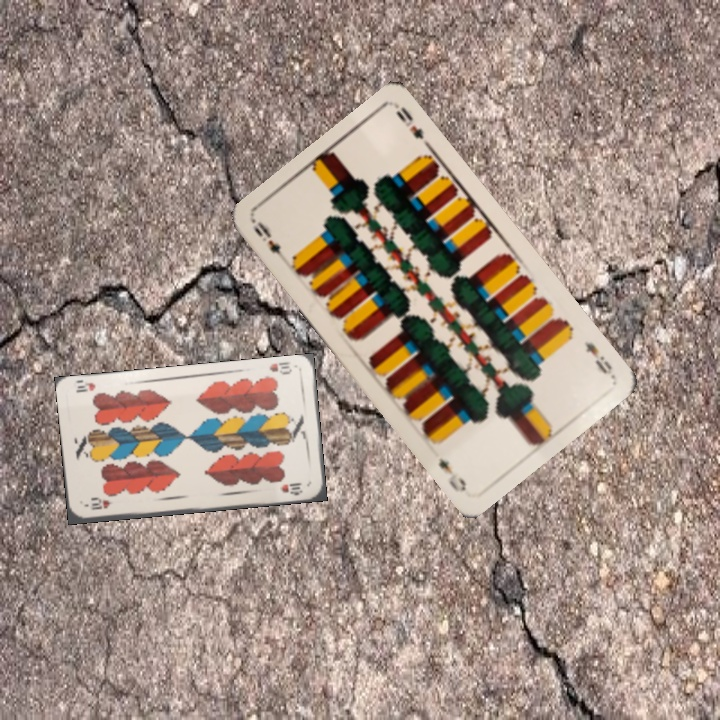E9: (249, 217, 292, 268), (580, 337, 617, 379)
H10: (265, 358, 295, 377), (87, 497, 116, 513)
